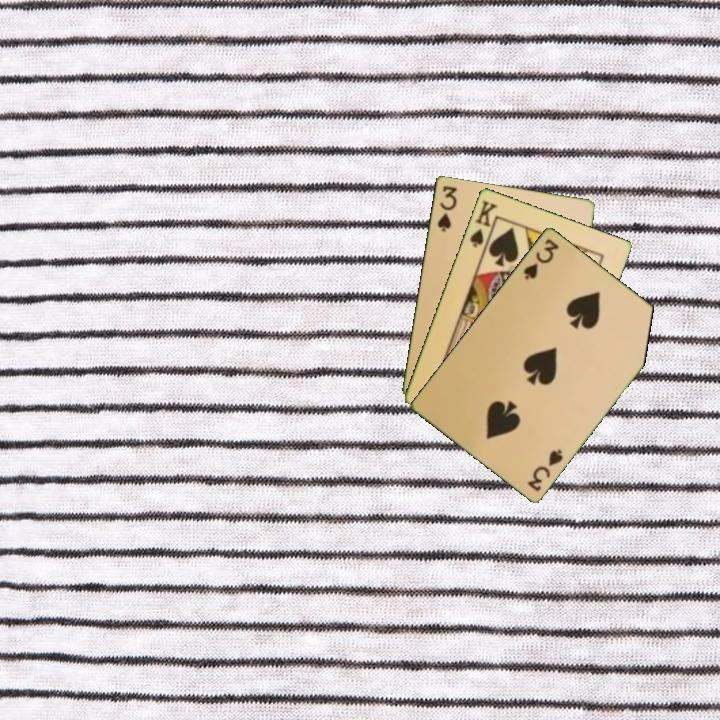3s: (523, 445, 566, 494), (520, 234, 562, 282), (433, 182, 460, 234)
Ks: (466, 196, 500, 253)
